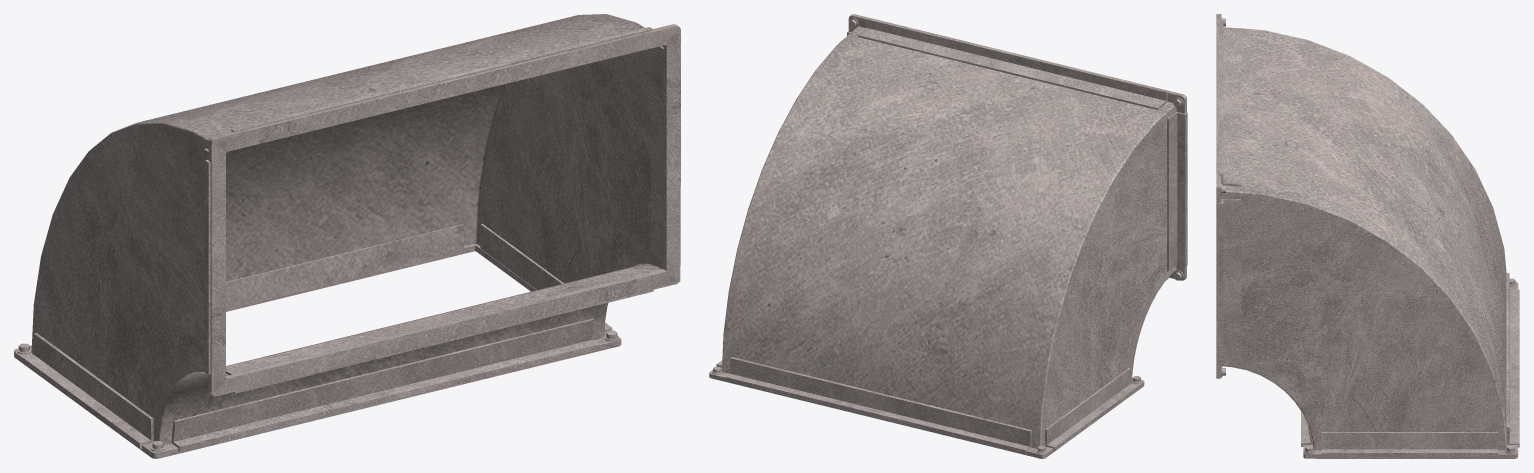
File: SM_Square_Ducting_01e.glb
The picture shows the model from 3 angles, left to right: view 1: azimuth 30°, elevation 25°; view 2: azimuth 150°, elevation 25°; view 3: azimuth 270°, elevation 25°; orthographic projection. The views are drawn at different scales.
Parts seen in each view (by area): view 1: SM_Square_Ducting_01e; view 2: SM_Square_Ducting_01e; view 3: SM_Square_Ducting_01e.
Boxes of the visible parts, bbox=[...] form: SM_Square_Ducting_01e: bbox=[14, 14, 680, 458]; SM_Square_Ducting_01e: bbox=[709, 14, 1187, 458]; SM_Square_Ducting_01e: bbox=[1216, 14, 1519, 458].
Bounding box in the file's own units: 1.06 × 0.7791 × 0.7798.
1 material, 1 textured.
